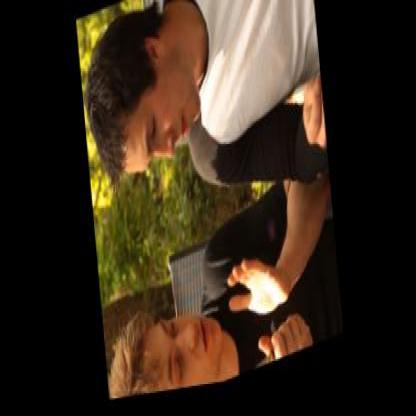knife: (225, 320, 301, 384)
